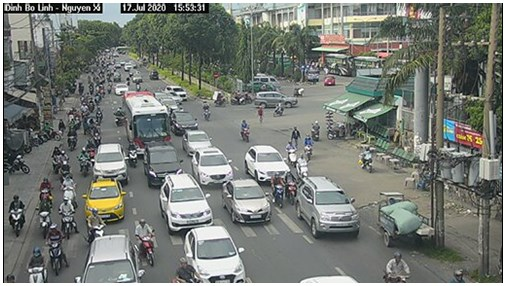di_bo: (256, 104, 266, 126)
xe_buyt: (122, 89, 171, 148)
xe_hoi: (158, 175, 214, 229), (221, 177, 276, 227), (83, 178, 126, 221), (242, 144, 290, 182), (190, 147, 234, 186), (144, 144, 184, 186), (93, 144, 127, 182), (182, 129, 212, 156)
xe_may: (134, 215, 158, 268), (47, 223, 68, 275), (8, 193, 28, 237), (27, 246, 50, 283), (32, 196, 51, 237), (82, 208, 104, 241), (58, 198, 77, 236), (283, 166, 298, 206), (270, 171, 285, 208), (62, 173, 79, 205), (34, 177, 52, 206), (356, 145, 373, 174), (76, 147, 90, 176), (295, 151, 308, 180), (286, 139, 298, 166), (90, 122, 102, 146), (238, 119, 250, 142), (201, 99, 211, 123), (127, 141, 136, 167), (311, 119, 319, 140)
